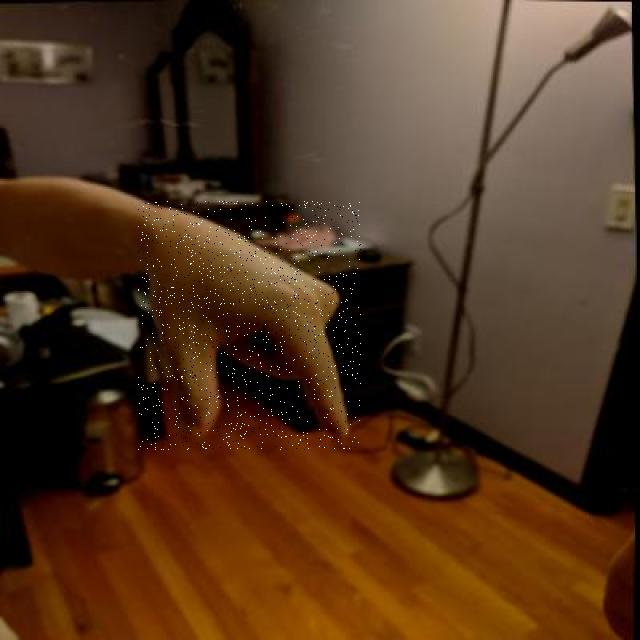Q: (138, 201, 361, 450)
